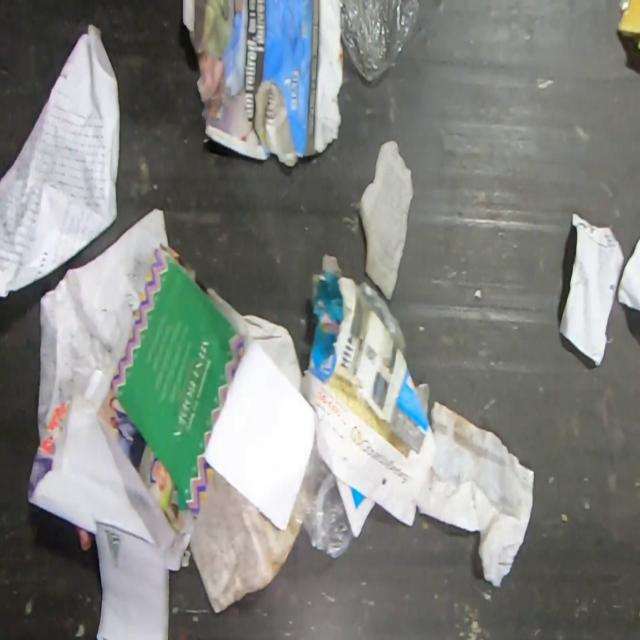cardboard: (616, 0, 640, 50)
soft_plastic: (290, 447, 353, 558), (339, 0, 419, 81), (359, 281, 406, 355)
